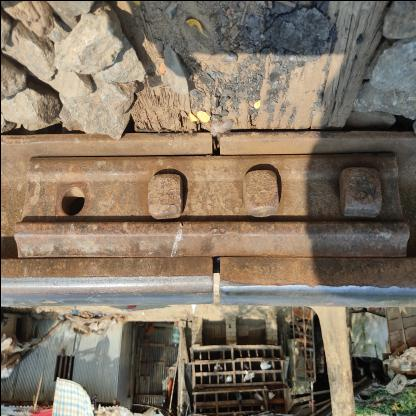Defective 3: (6, 135, 412, 261)
Non Defective 2: (193, 244, 240, 316)
